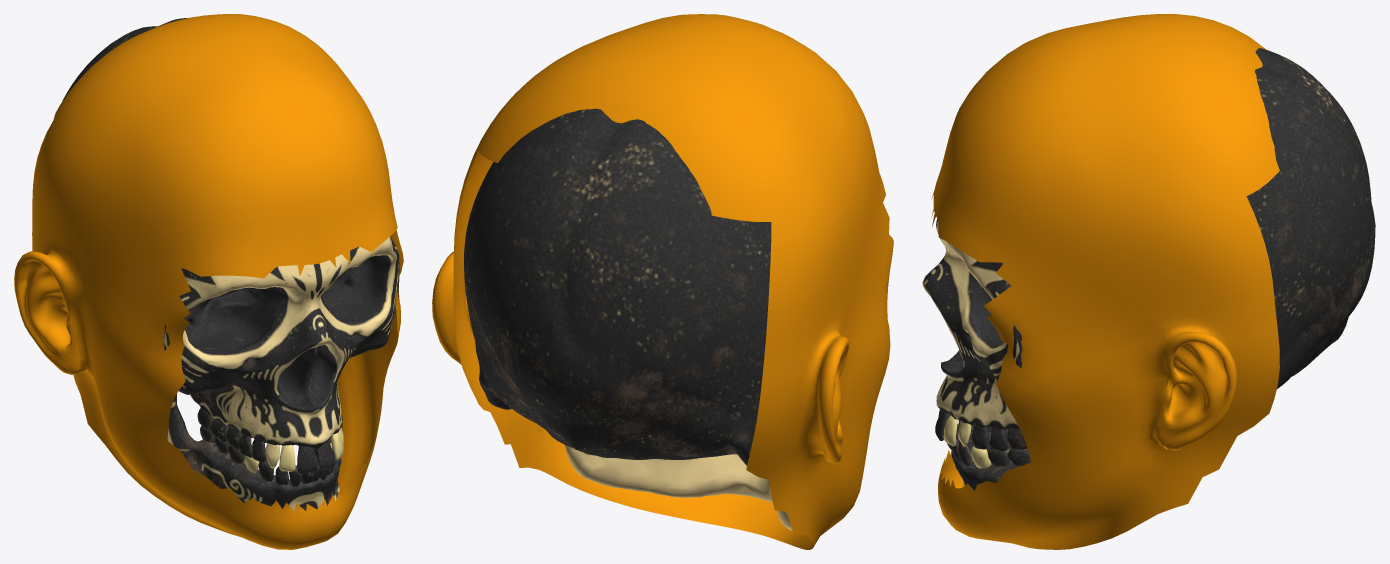
Rendered from normalskull.glb.
3 views of the same model, side by side, from view 1: azimuth 30°, elevation 25°; view 2: azimuth 150°, elevation 25°; view 3: azimuth 270°, elevation 25° (orthographic). The views are drawn at different scales.
Visible parts, largest first — view 1: skullheadcombo; view 2: skullheadcombo; view 3: skullheadcombo.
Part boxes in pixels (x1,y1,x2,y2): skullheadcombo: (14,14,403,549); skullheadcombo: (432,14,893,549); skullheadcombo: (922,14,1375,549).
Bounding box in the file's own units: 1.93 × 2.51 × 2.06.
3 materials, 2 textured.
